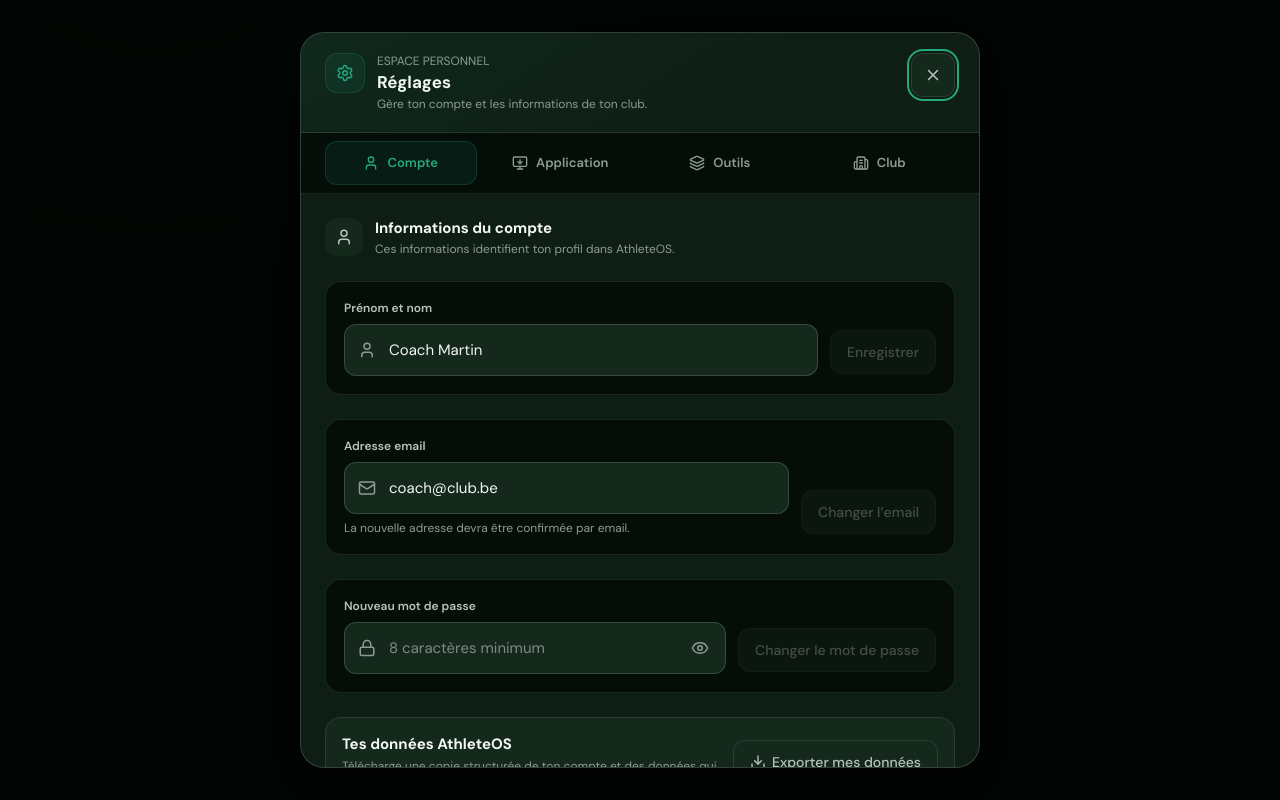
Test: AccountSettingsModal › sépare Compte et Club et confirme avant d'invalider le code
Expected: the dialog "Réglages" is shown, [300,32,980,768]
What coordinates should you click on to do the following:
click the tab "Club"
I would click on:
 (879, 163)
Its box is [804,141,955,185].
(page scrolled)
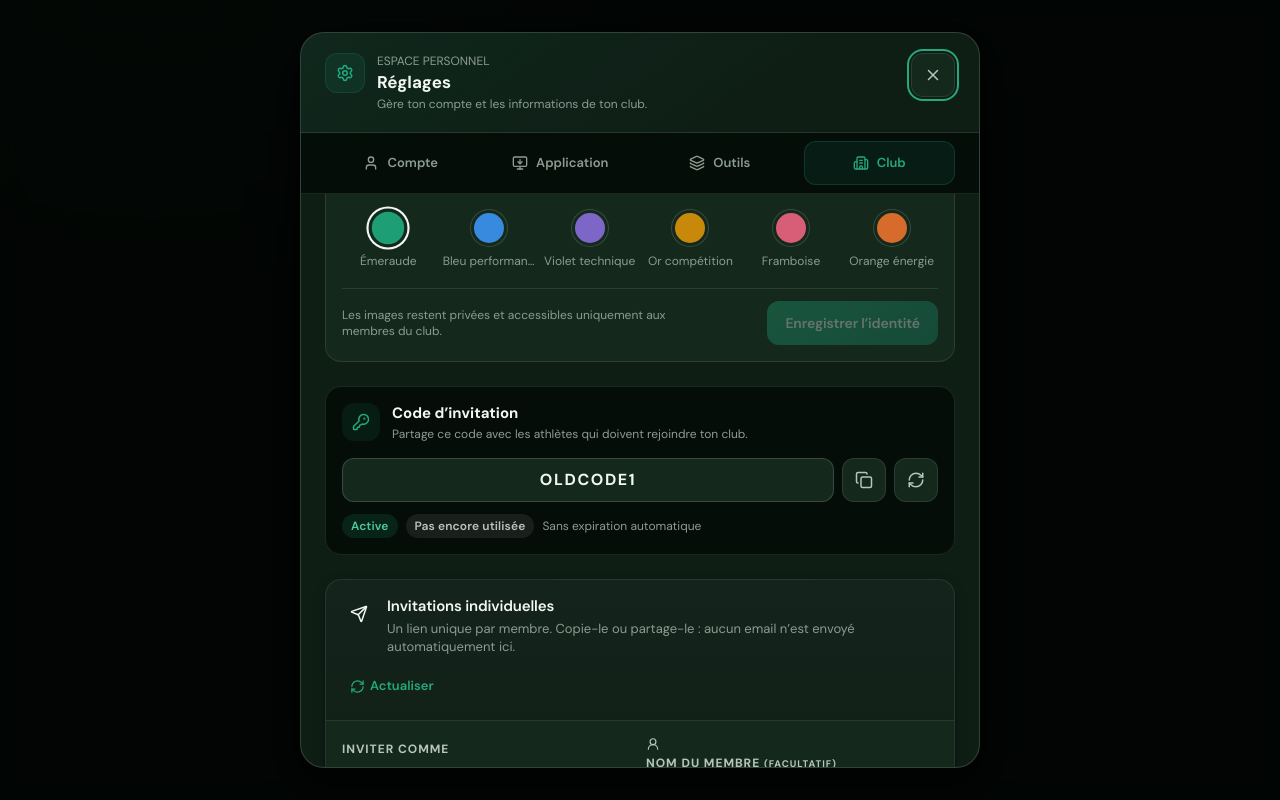
Expected: the text "OLDCODE1" is shown, [342,458,834,502]
What coordinates should you click on to do the following:
click the button named "Générer un nouveau code"
I would click on:
 (916, 480)
Its box is [894,458,938,502].
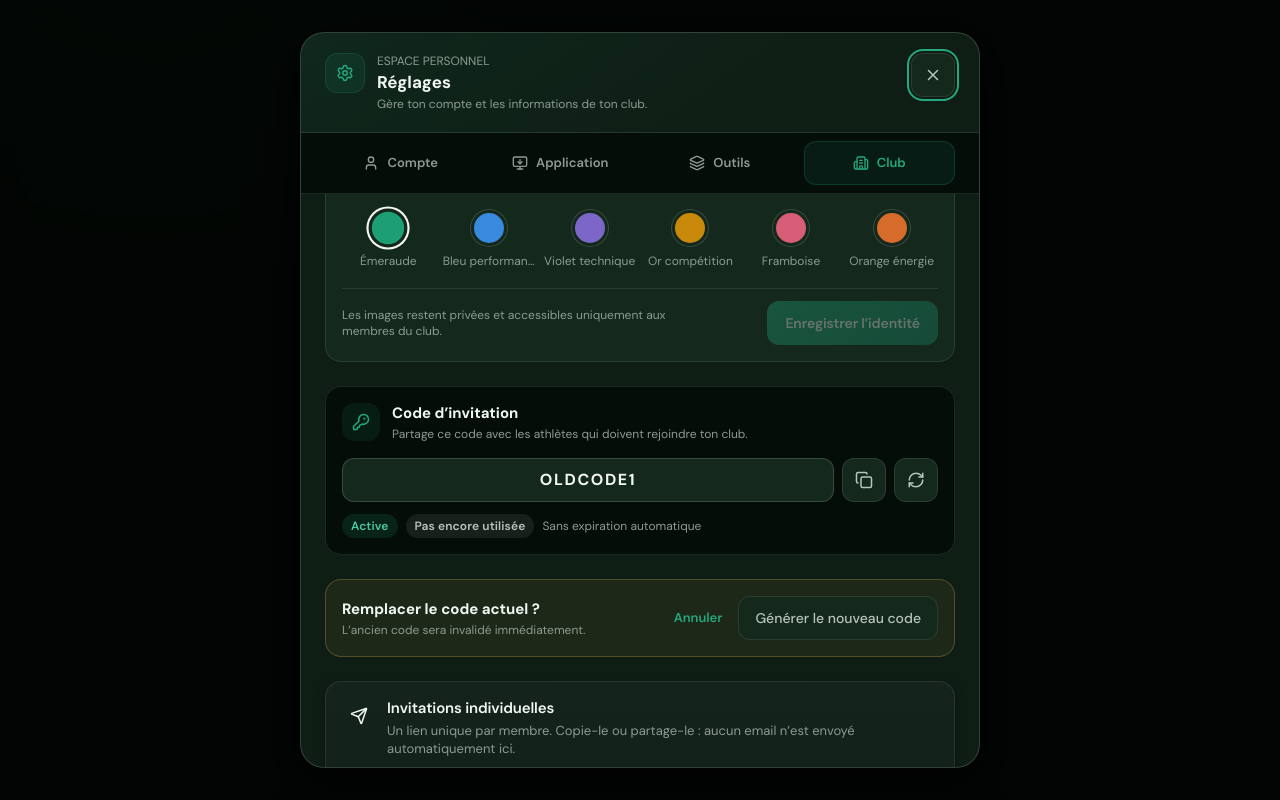
Expected: the text "L’ancien code sera invalidé immédiatement." is shown, [342,622,585,638]
What coordinates should you click on to do the following:
click the button "Générer le nouveau code"
I would click on:
 (838, 618)
Its box is [738,596,938,640].
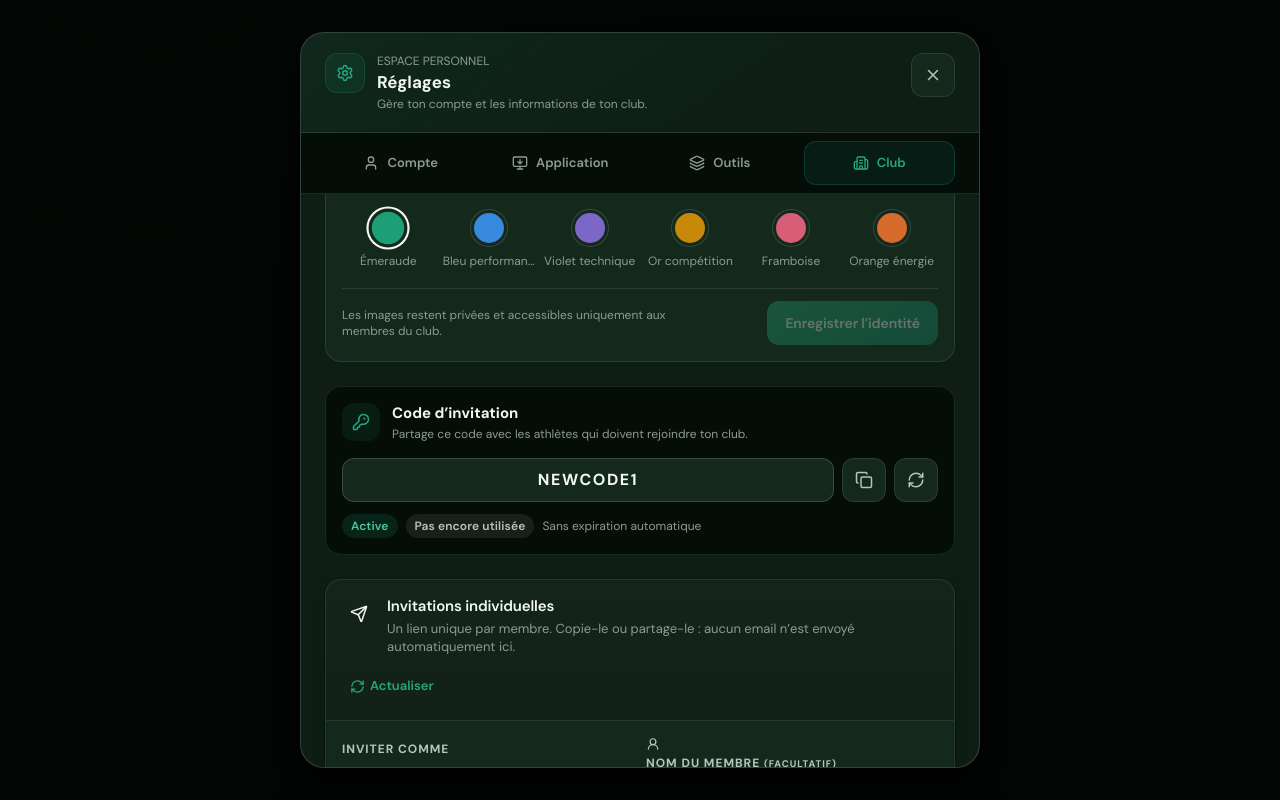
Expected: the text "NEWCODE1" is shown, [342,458,834,502]
